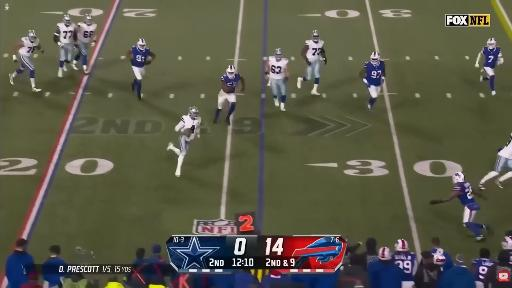Helmet: (378, 247, 391, 260), (395, 239, 408, 251), (453, 172, 465, 183), (434, 254, 445, 265), (502, 236, 511, 249), (189, 107, 198, 119), (227, 66, 235, 79), (28, 31, 37, 42), (487, 38, 496, 48), (137, 39, 146, 49), (371, 52, 379, 63), (84, 14, 92, 25), (312, 30, 319, 42), (63, 15, 71, 25), (275, 49, 282, 60), (510, 133, 512, 139), (510, 133, 512, 138), (510, 133, 512, 137)
Jersey: (392, 252, 415, 281), (175, 115, 201, 140), (453, 182, 475, 206), (364, 61, 385, 86), (472, 259, 494, 281), (269, 56, 288, 79), (482, 47, 501, 68), (76, 23, 97, 42), (131, 46, 150, 67), (19, 37, 39, 56), (56, 23, 75, 43), (306, 40, 323, 61), (498, 134, 511, 158), (221, 73, 239, 88)
Player: (430, 172, 491, 241), (167, 107, 201, 176), (9, 31, 43, 91), (213, 66, 245, 125), (297, 30, 326, 95), (479, 134, 511, 189), (127, 39, 155, 100), (475, 38, 503, 95), (360, 52, 385, 110), (72, 15, 97, 73), (266, 49, 289, 111), (54, 15, 76, 77), (392, 239, 416, 287), (471, 248, 494, 287), (502, 236, 511, 253)
